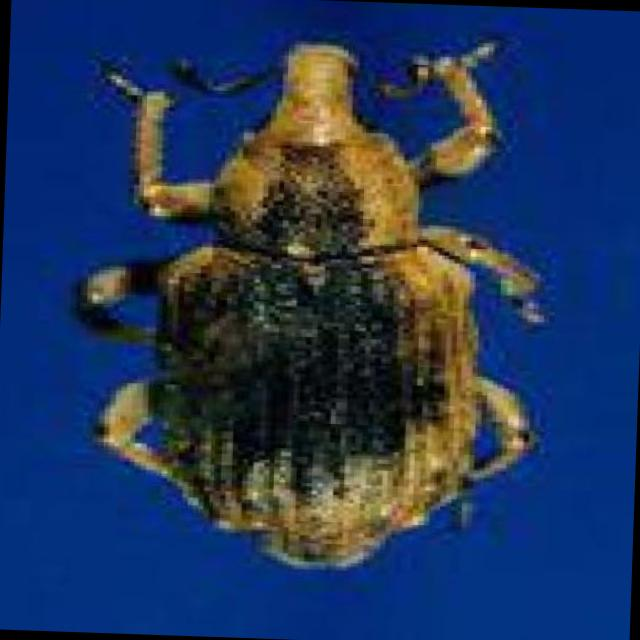rice-bug: (77, 32, 546, 575)
